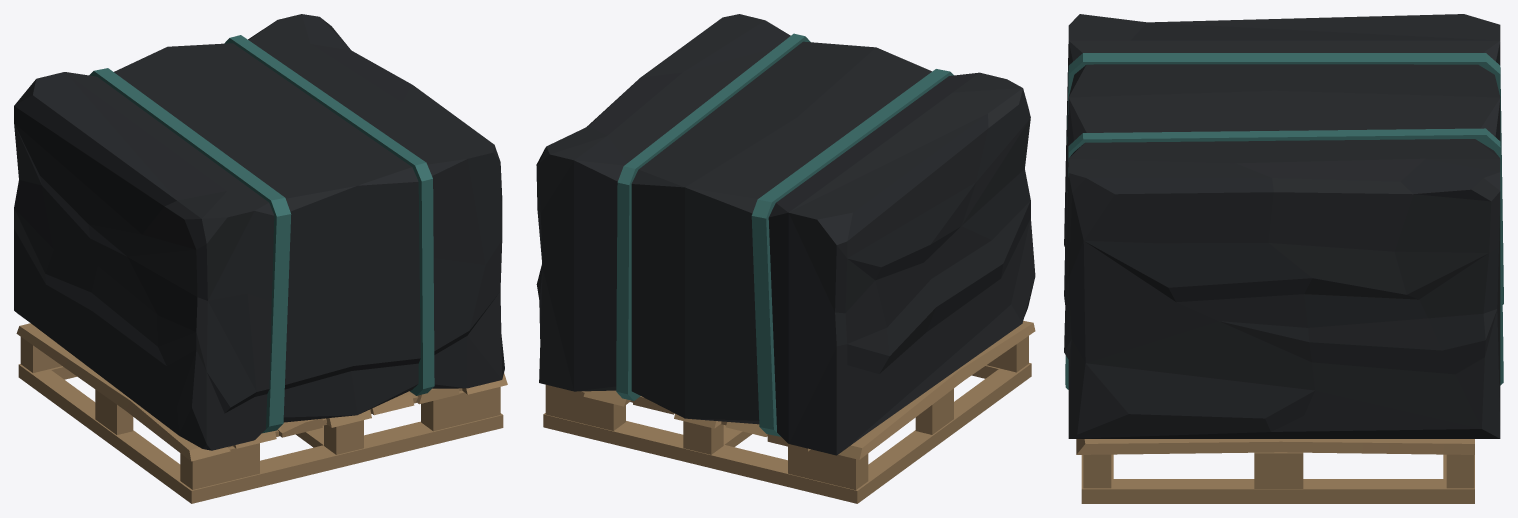
File: SM_Prop_Pallet_02.fbx
3 views of the same model, side by side, from view 1: azimuth 30°, elevation 25°; view 2: azimuth 150°, elevation 25°; view 3: azimuth 270°, elevation 25° (orthographic). The views are drawn at different scales.
Parts seen in each view (by area): view 1: SM_Prop_Pallet_02; view 2: SM_Prop_Pallet_02; view 3: SM_Prop_Pallet_02.
Part boxes in pixels (x1,y1,x2,y2): SM_Prop_Pallet_02: [14, 14, 507, 503]; SM_Prop_Pallet_02: [536, 14, 1035, 503]; SM_Prop_Pallet_02: [1064, 14, 1503, 503].
Bounding box in the file's own units: 145 × 124 × 153.
